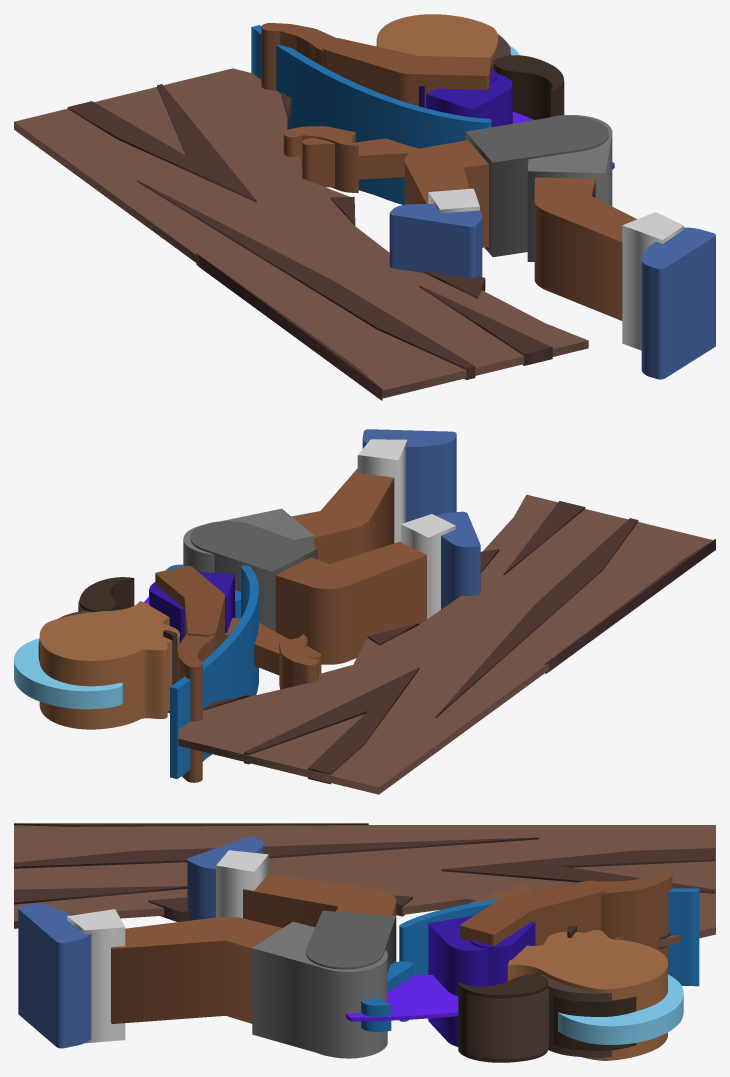
Rendered from emoji_u1f9d7_1f3fe_200d_2640.glb.
3 renders of one model, top to bottom at view 1: azimuth 30°, elevation 25°; view 2: azimuth 150°, elevation 25°; view 3: azimuth 270°, elevation 25°, orthographic. The views are drawn at different scales.
Visible parts, largest first — view 1: emoji_u1f9d7_1f3fe_200d_2640; view 2: emoji_u1f9d7_1f3fe_200d_2640; view 3: emoji_u1f9d7_1f3fe_200d_2640.
Part boxes in pixels (x1=…): emoji_u1f9d7_1f3fe_200d_2640: x1=14, y1=14, x2=715, y2=400; emoji_u1f9d7_1f3fe_200d_2640: x1=14, y1=429, x2=715, y2=794; emoji_u1f9d7_1f3fe_200d_2640: x1=14, y1=823, x2=715, y2=1062.
Bounding box in the file's own units: 0.0236 × 0.0066 × 0.0338.
